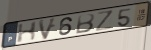5: (117, 7, 133, 27)
6: (58, 16, 74, 37)
B: (74, 12, 96, 35)
H: (16, 20, 39, 44)
V: (37, 16, 58, 41)
Z: (95, 9, 114, 32)
